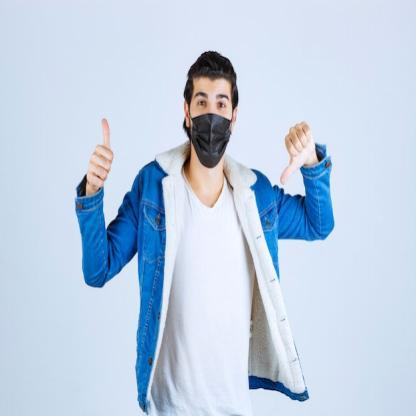thumb_down: (278, 116, 314, 188)
thumb_up: (84, 114, 116, 190)
